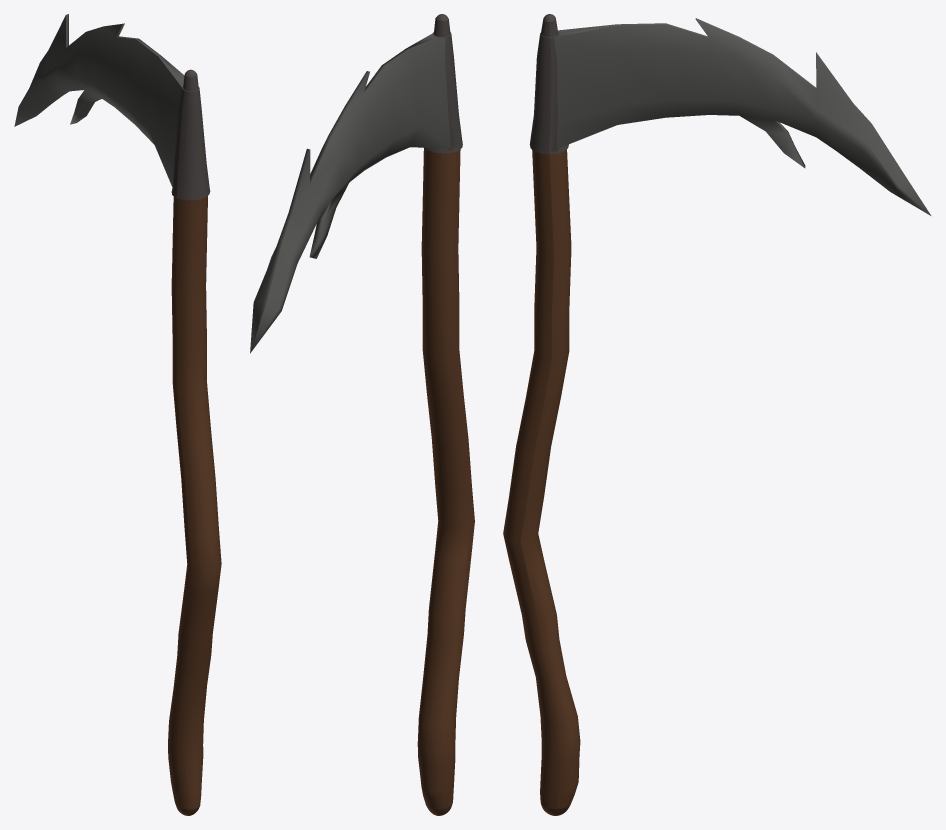
The model's file is Reapers Scythe.fbx.
The picture shows the model from 3 angles, left to right: view 1: azimuth 30°, elevation 25°; view 2: azimuth 150°, elevation 25°; view 3: azimuth 270°, elevation 25°; orthographic projection. The views are drawn at different scales.
Parts seen in each view (by area): view 1: Reapers_Scythe; view 2: Reapers_Scythe; view 3: Reapers_Scythe.
Boxes of the visible parts, x1,y1,x2,y2 form: Reapers_Scythe: (14,14,221,815); Reapers_Scythe: (250,14,474,815); Reapers_Scythe: (503,14,931,815).
Size of the model in its own units: 3.02 by 63.72 by 30.92.
Materials: 3 (3 with a texture image).
